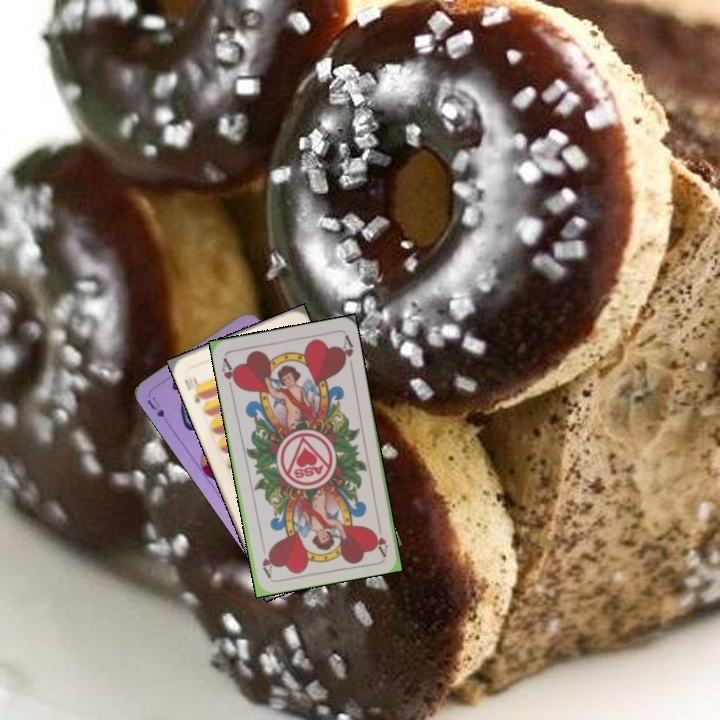E10: (180, 372, 207, 406)
HA: (218, 353, 241, 394), (370, 526, 390, 558)
SU: (143, 393, 168, 420)
